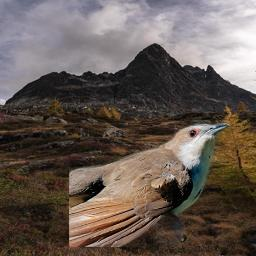Cuckoo: (69, 123, 230, 247)
